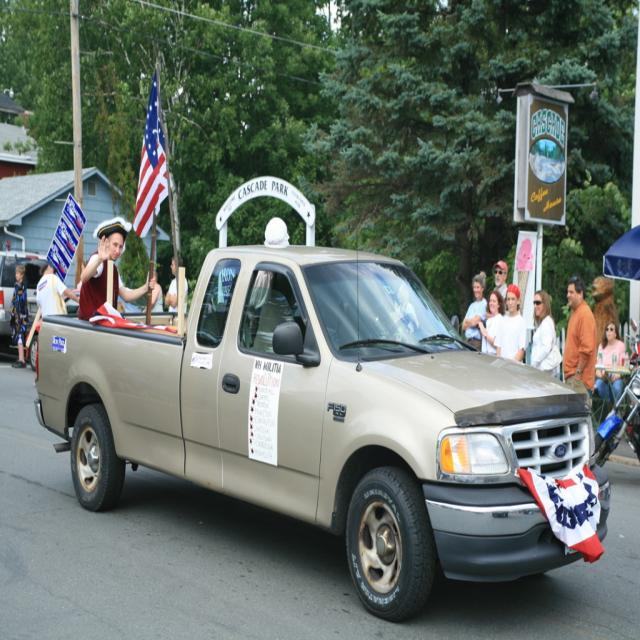car: (30, 229, 608, 619)
